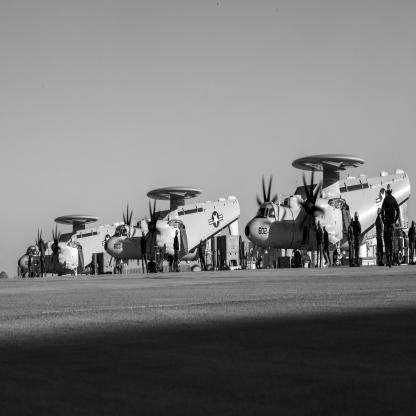E2: (246, 154, 412, 270), (105, 187, 241, 275), (19, 215, 126, 277)
